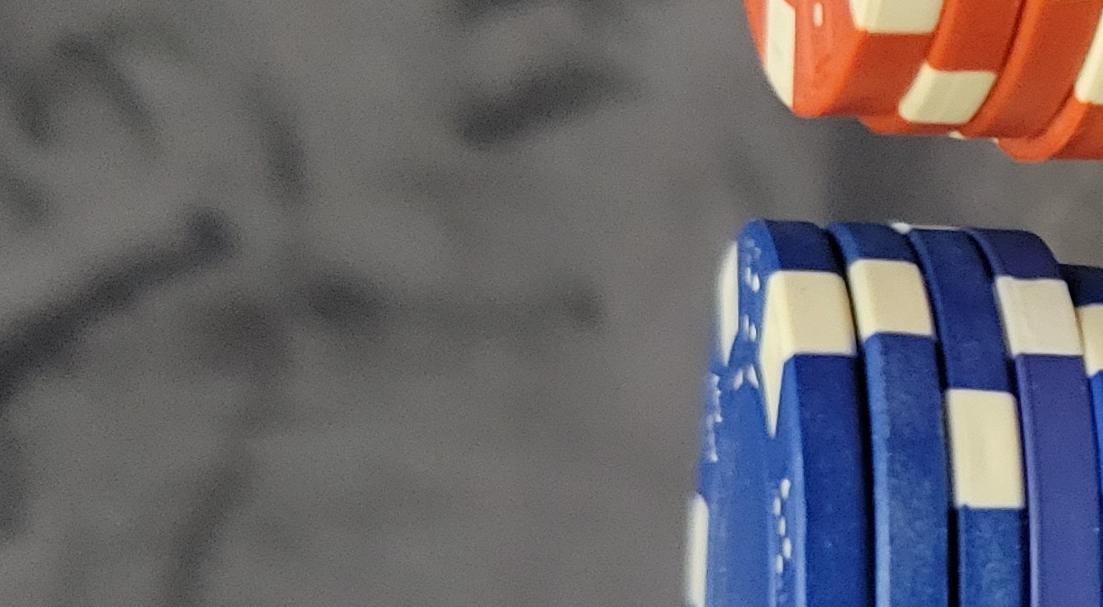Chip: (1, 322, 775, 607)
